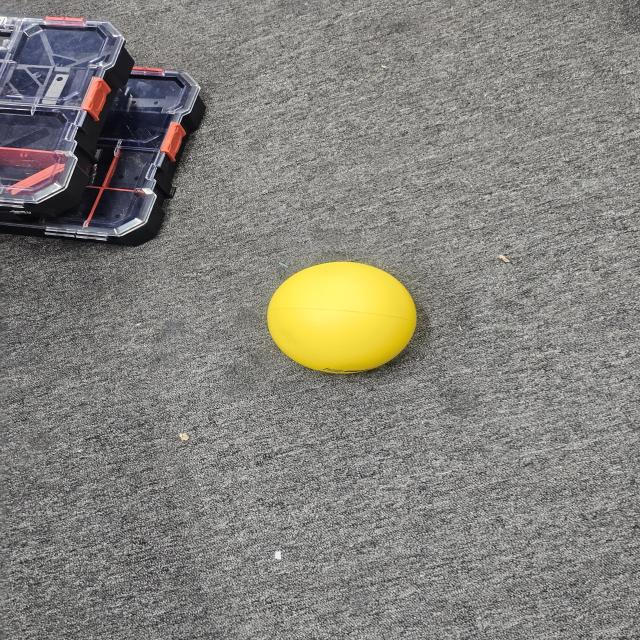Fuel: (259, 259, 423, 376)
